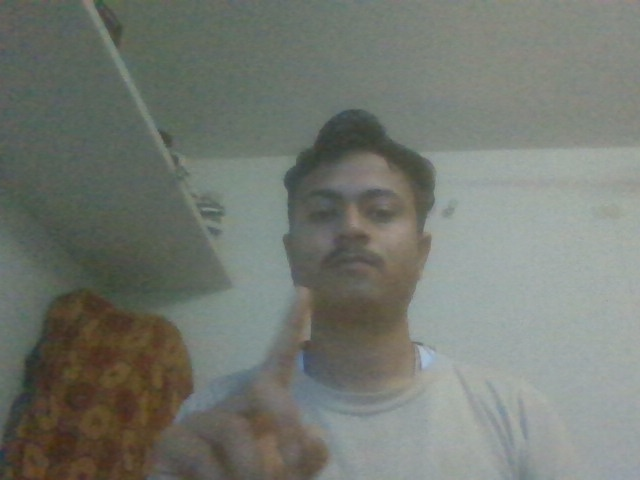No: (164, 287, 327, 480)
